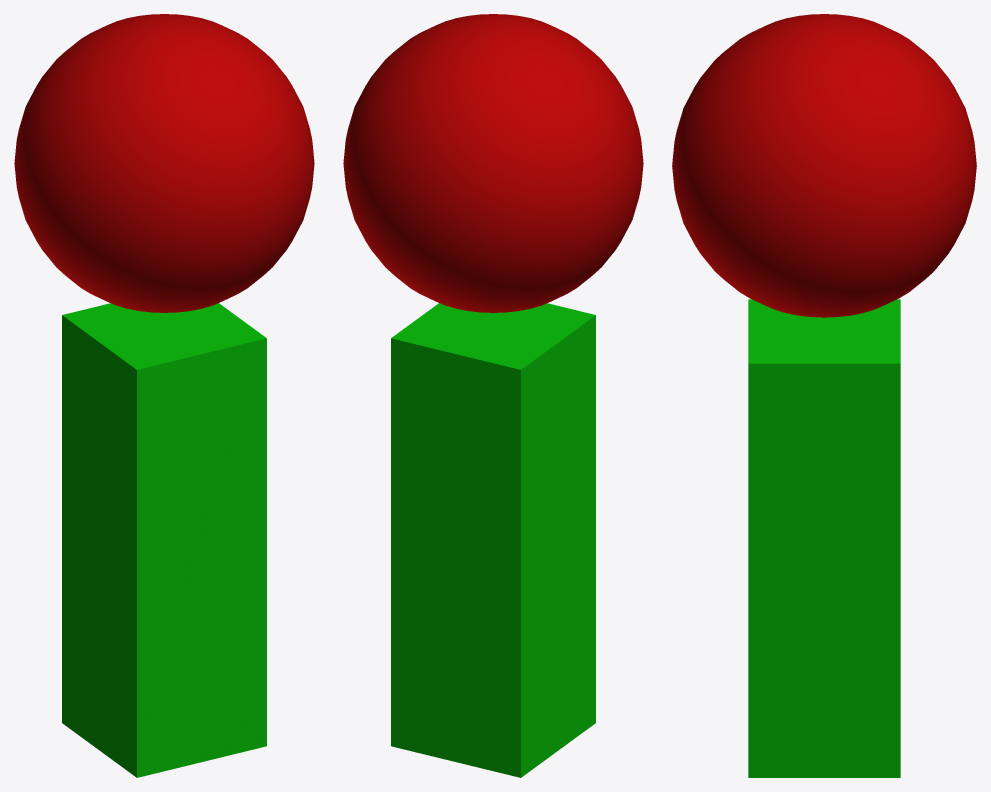
Rendered from LodStacked.gltf.
The picture shows the model from 3 angles, left to right: view 1: azimuth 30°, elevation 25°; view 2: azimuth 150°, elevation 25°; view 3: azimuth 270°, elevation 25°; orthographic projection.
Parts seen in each view (by area): view 1: sphere1_merged; view 2: sphere1_merged; view 3: sphere1_merged.
Part boxes in pixels (x1=…): sphere1_merged: x1=14, y1=14, x2=314, y2=777; sphere1_merged: x1=343, y1=14, x2=643, y2=777; sphere1_merged: x1=672, y1=14, x2=976, y2=777.
Bounding box in the file's own units: 2 × 5.2 × 2.
